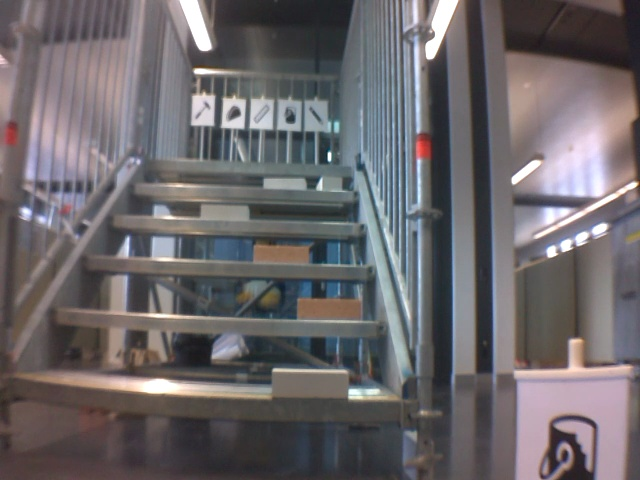brick: (272, 368, 347, 397), (299, 299, 361, 321), (253, 245, 308, 263), (200, 205, 248, 220), (264, 177, 305, 189), (318, 177, 340, 190)
bucket: (280, 102, 297, 126)
edge: (13, 376, 402, 421), (51, 310, 389, 337), (83, 257, 375, 280), (108, 216, 367, 235), (129, 184, 359, 201), (147, 159, 354, 177)
hammer: (192, 99, 211, 123)
pencil: (305, 104, 324, 125)
ruler: (251, 101, 270, 124)
stairs: (5, 1, 438, 476)
steps: (9, 154, 405, 429)
taco: (224, 103, 242, 124)
